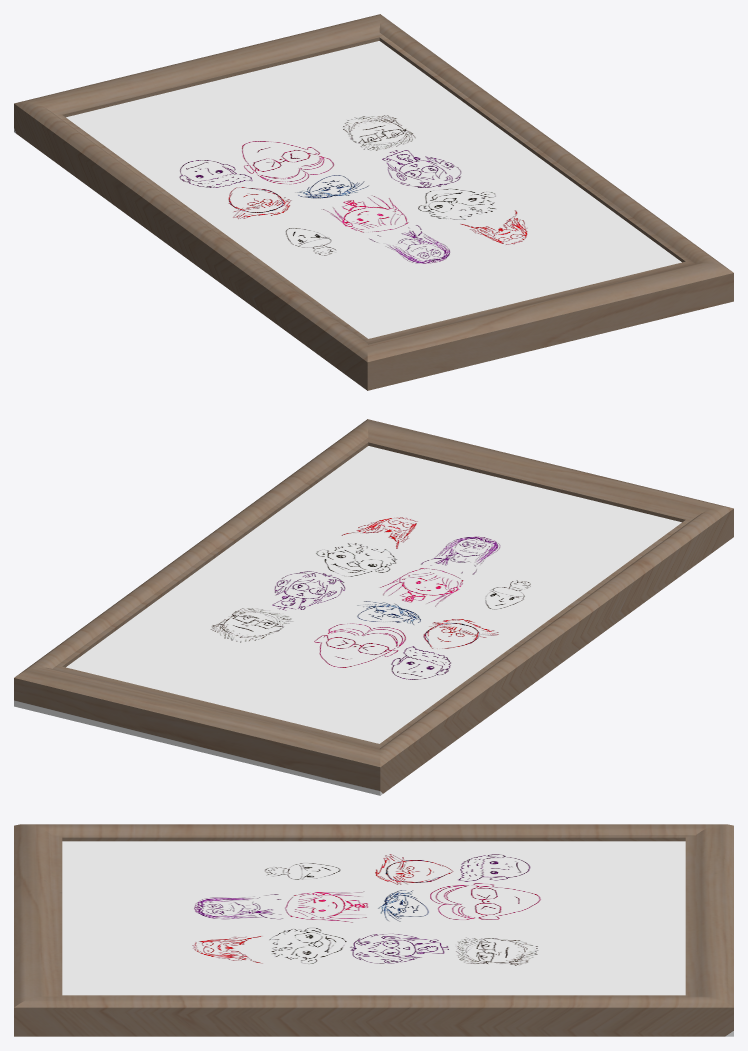
The model's file is SM_Paint_ending_A.fbx.
3 views of the same model, one above another, from view 1: azimuth 30°, elevation 25°; view 2: azimuth 150°, elevation 25°; view 3: azimuth 270°, elevation 25° (orthographic).
Parts seen in each view (by area): view 1: SM_paint_A; view 2: SM_paint_A; view 3: SM_paint_A.
Part boxes in pixels (x1,y1,x2,y2): SM_paint_A: [14, 14, 733, 390]; SM_paint_A: [14, 419, 733, 795]; SM_paint_A: [14, 824, 733, 1036].
Size of the model in its own units: 200 by 17.52 by 334.
